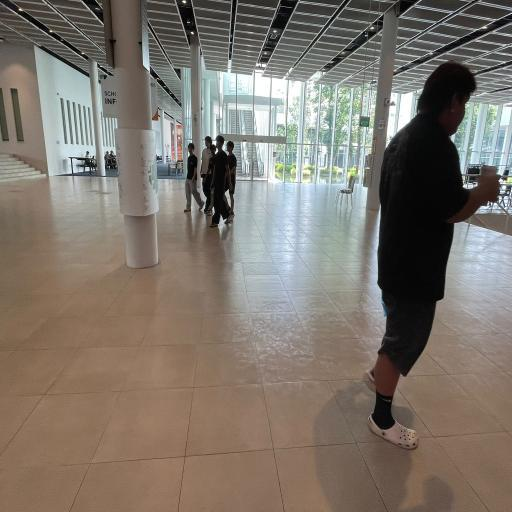person_left: (210, 136, 229, 227), (184, 140, 202, 216)
person_right: (366, 58, 502, 452)
